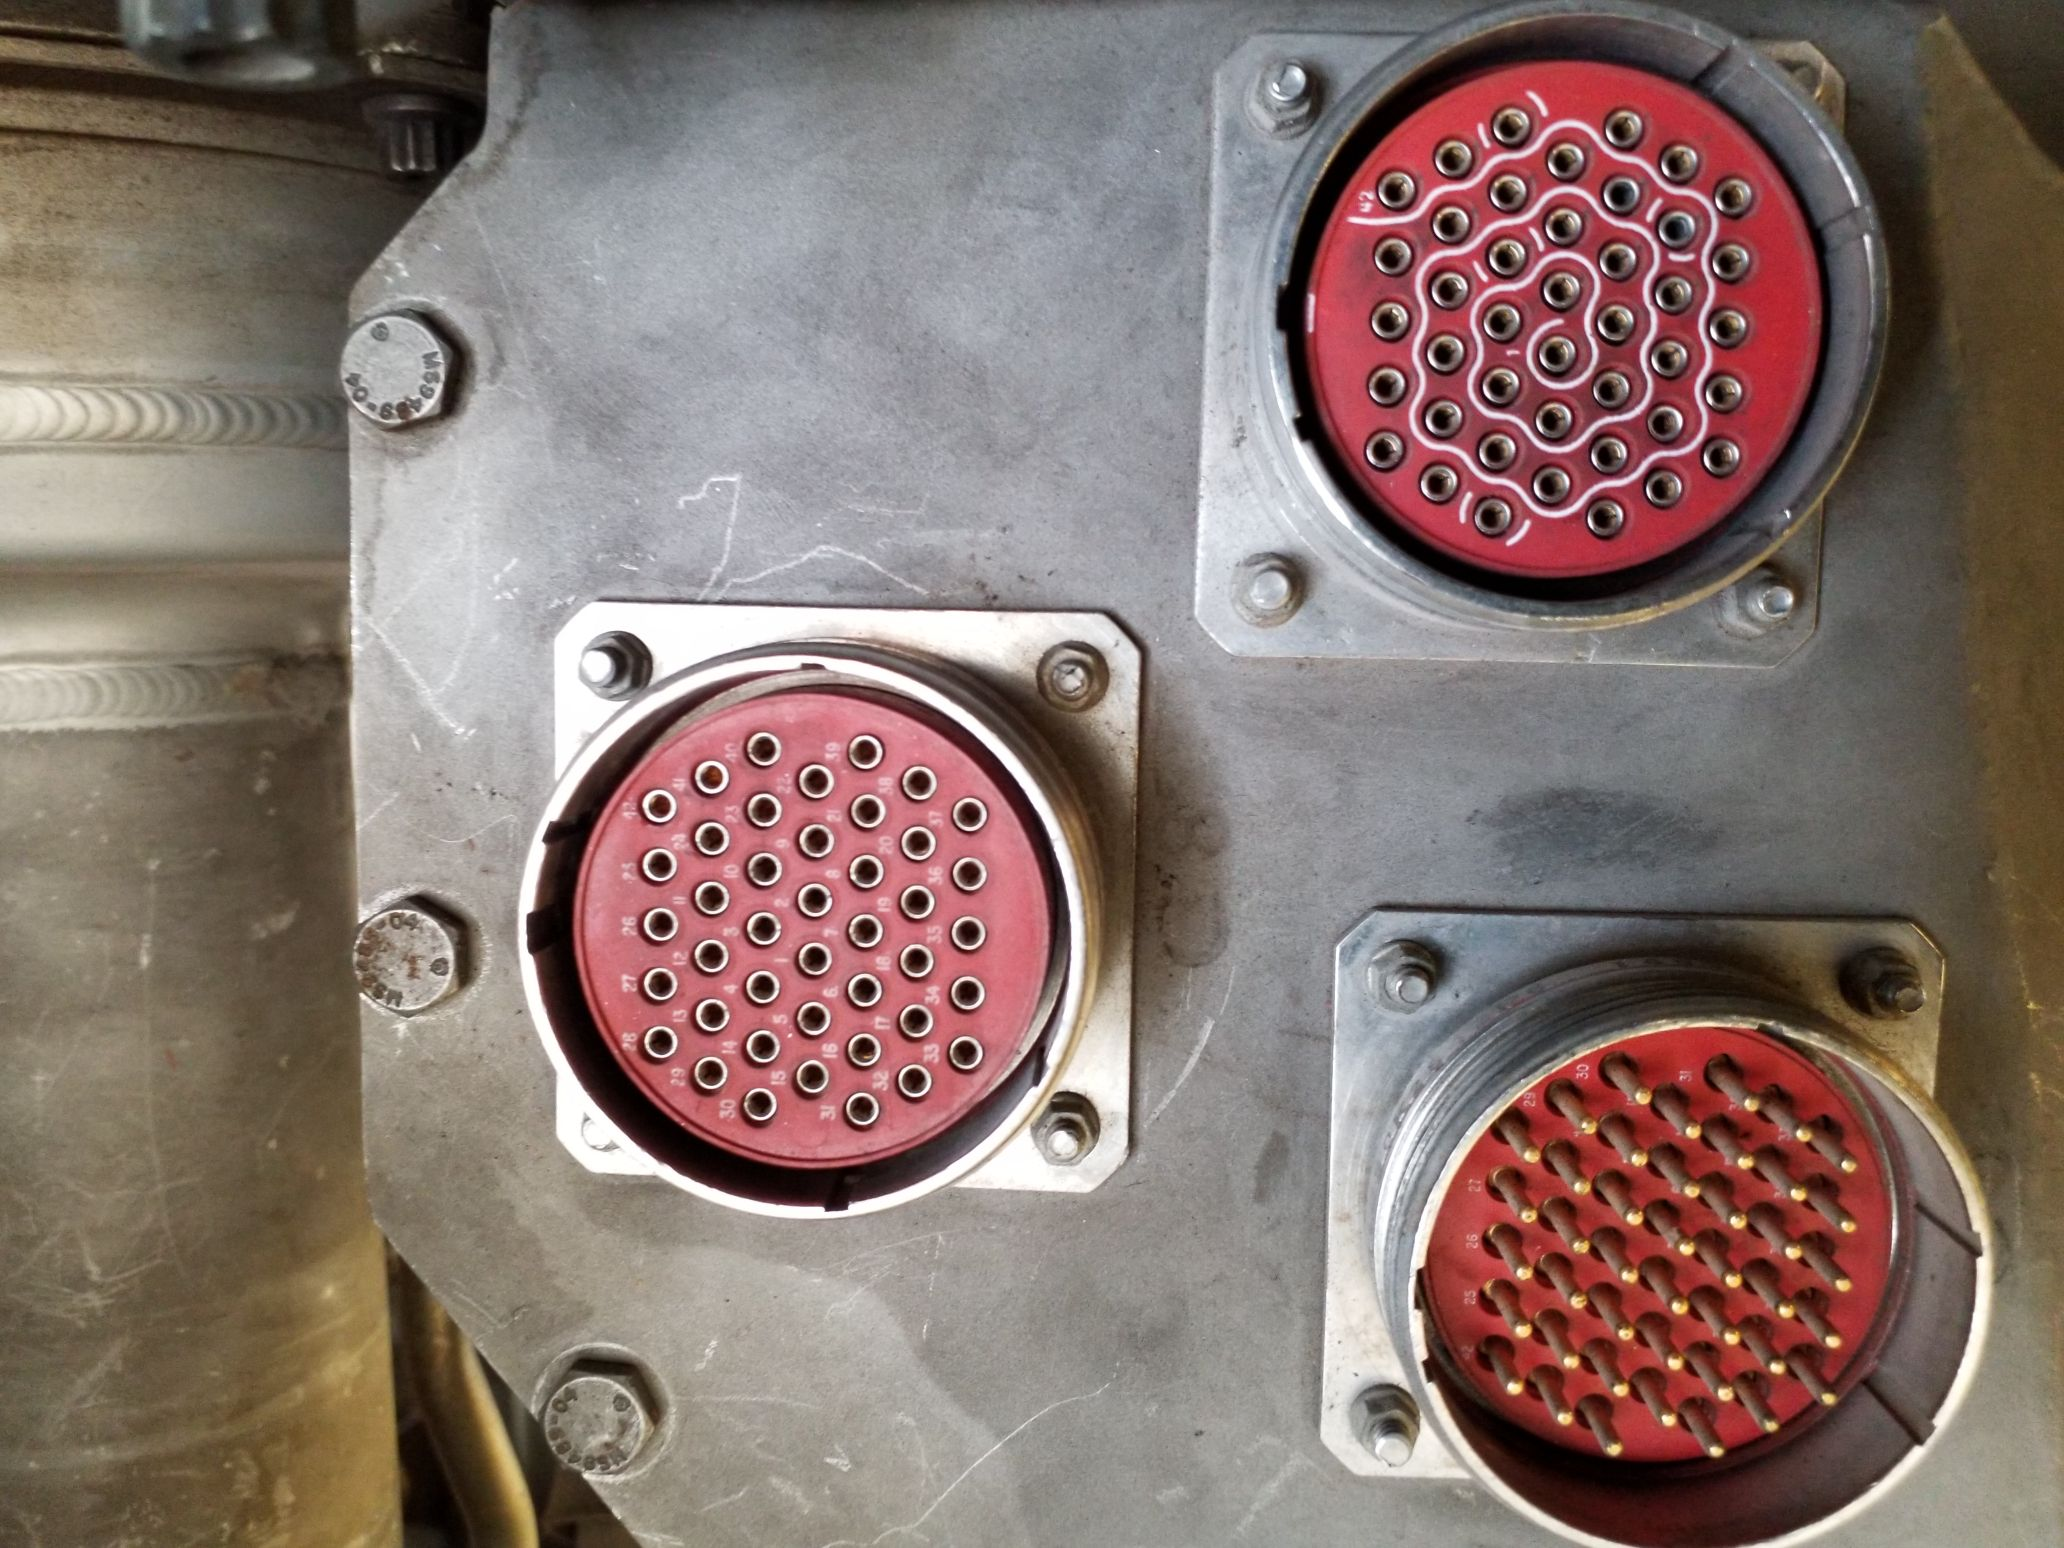inletnumbers: (505, 585, 1172, 1215)
inletround: (1238, 2, 1906, 629)
outlet: (1326, 919, 1992, 1548)
